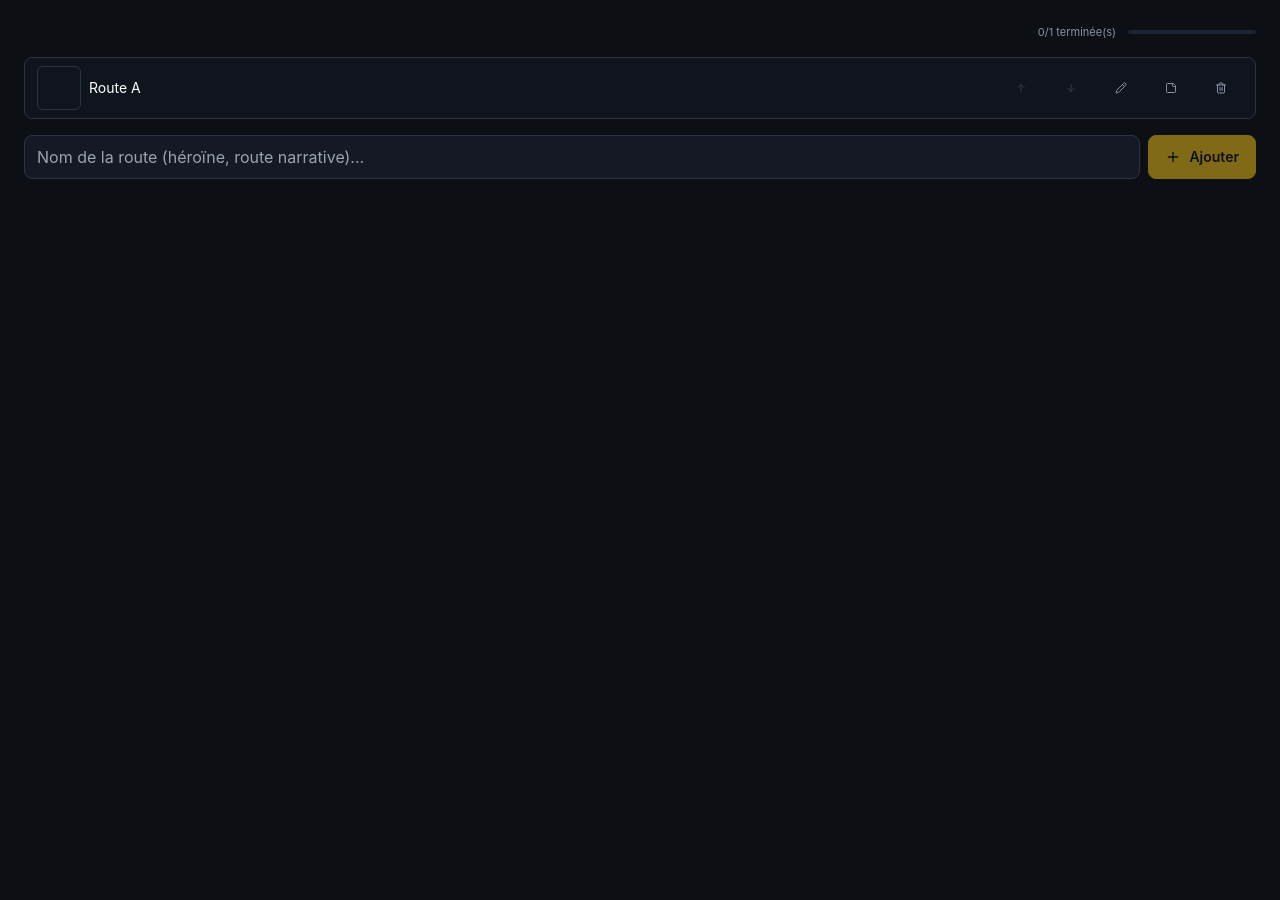
RoutesSection › ignores duplicate edit saves while the first patch is pending
Expected: the button "Route A" is shown, [89, 66, 991, 110]
Click the button named "Modifier": (1121, 88) [1099, 66, 1143, 110]
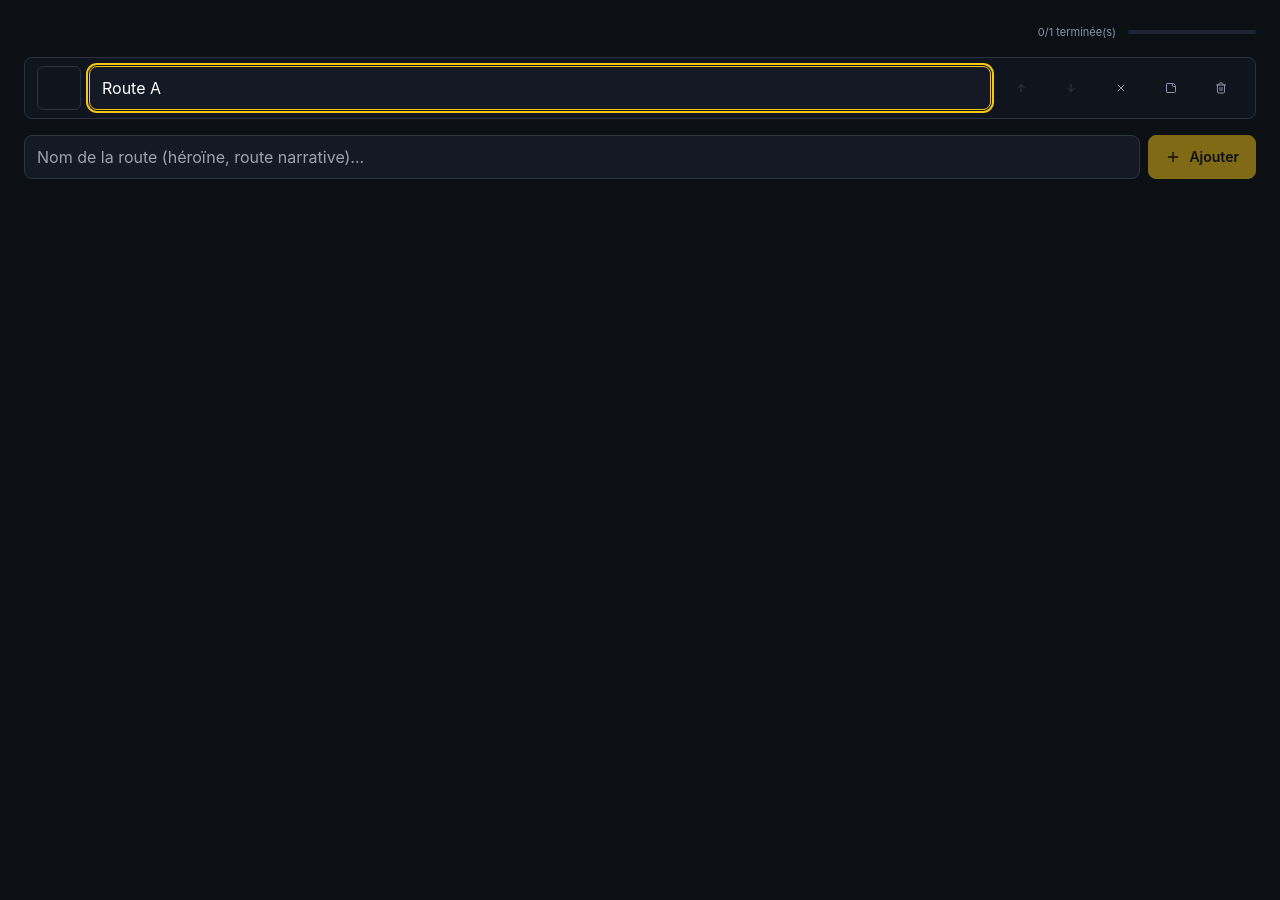
Replace the text in the field named "Nom de la route (héroïne, route narrative)..." with "Route A Edited": (540, 88) [89, 66, 991, 110]
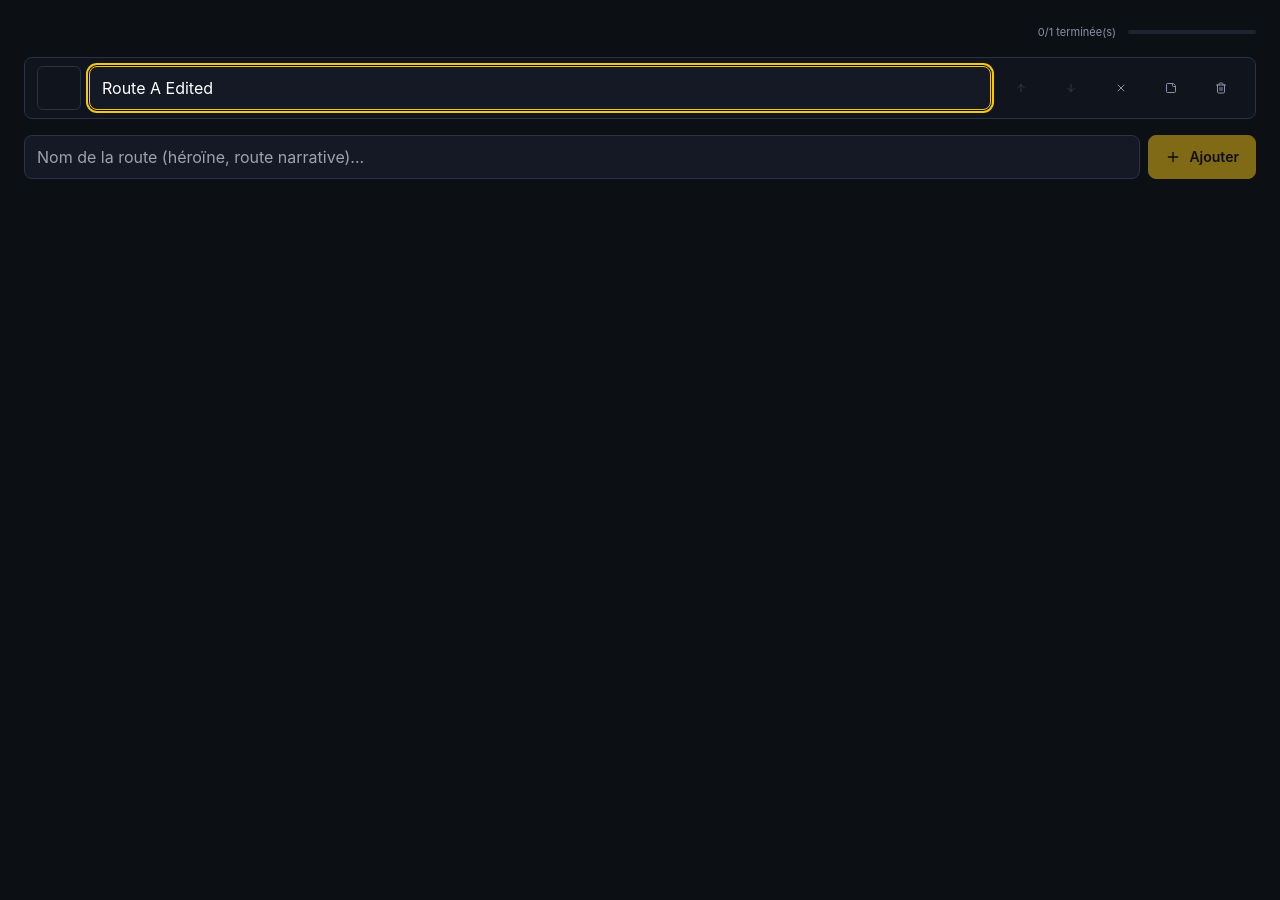
Press Enter in the field named "Nom de la route (héroïne, route narrative)...", box [89, 66, 991, 110]
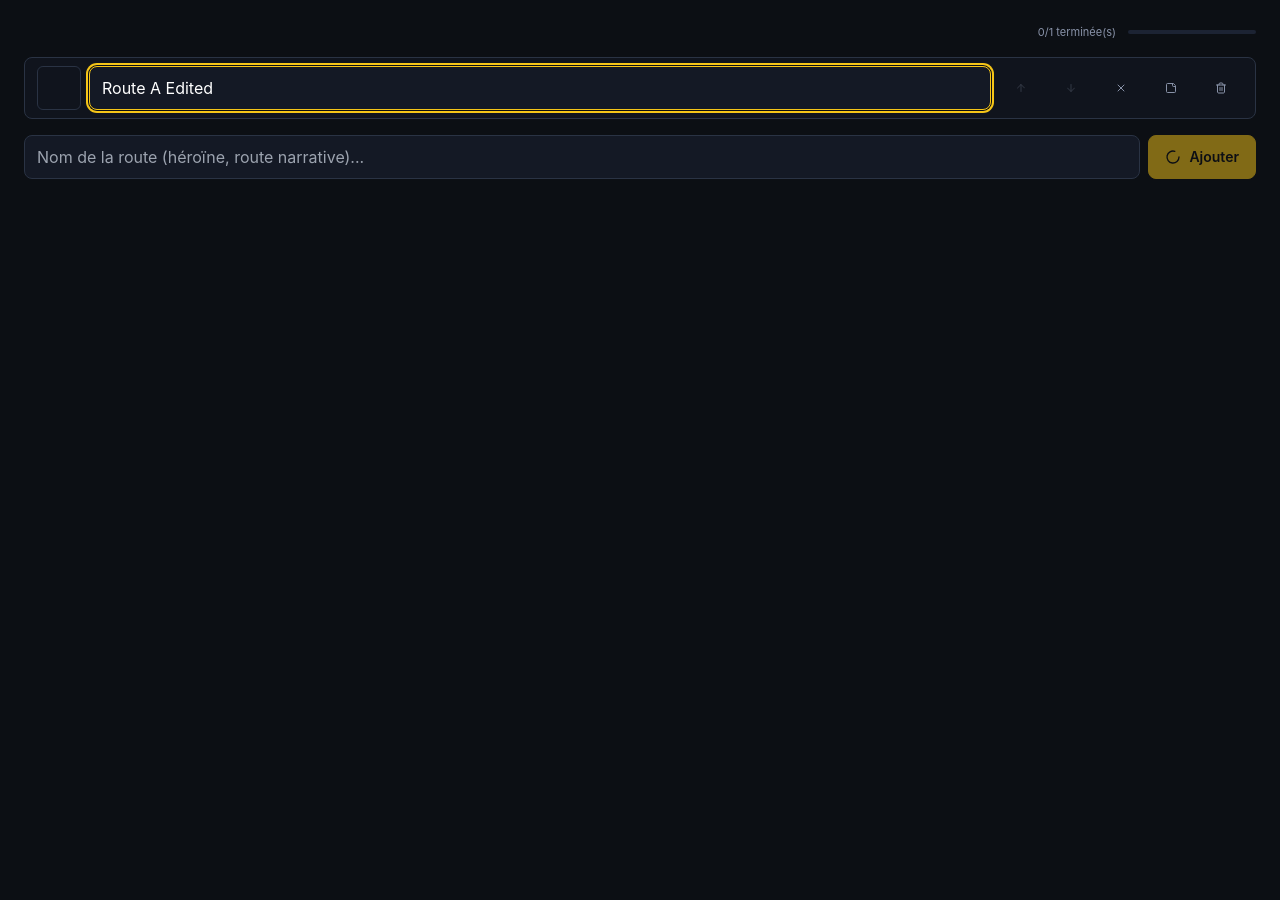
Leave the field named "Nom de la route (héroïne, route narrative)...", box [89, 66, 991, 110]
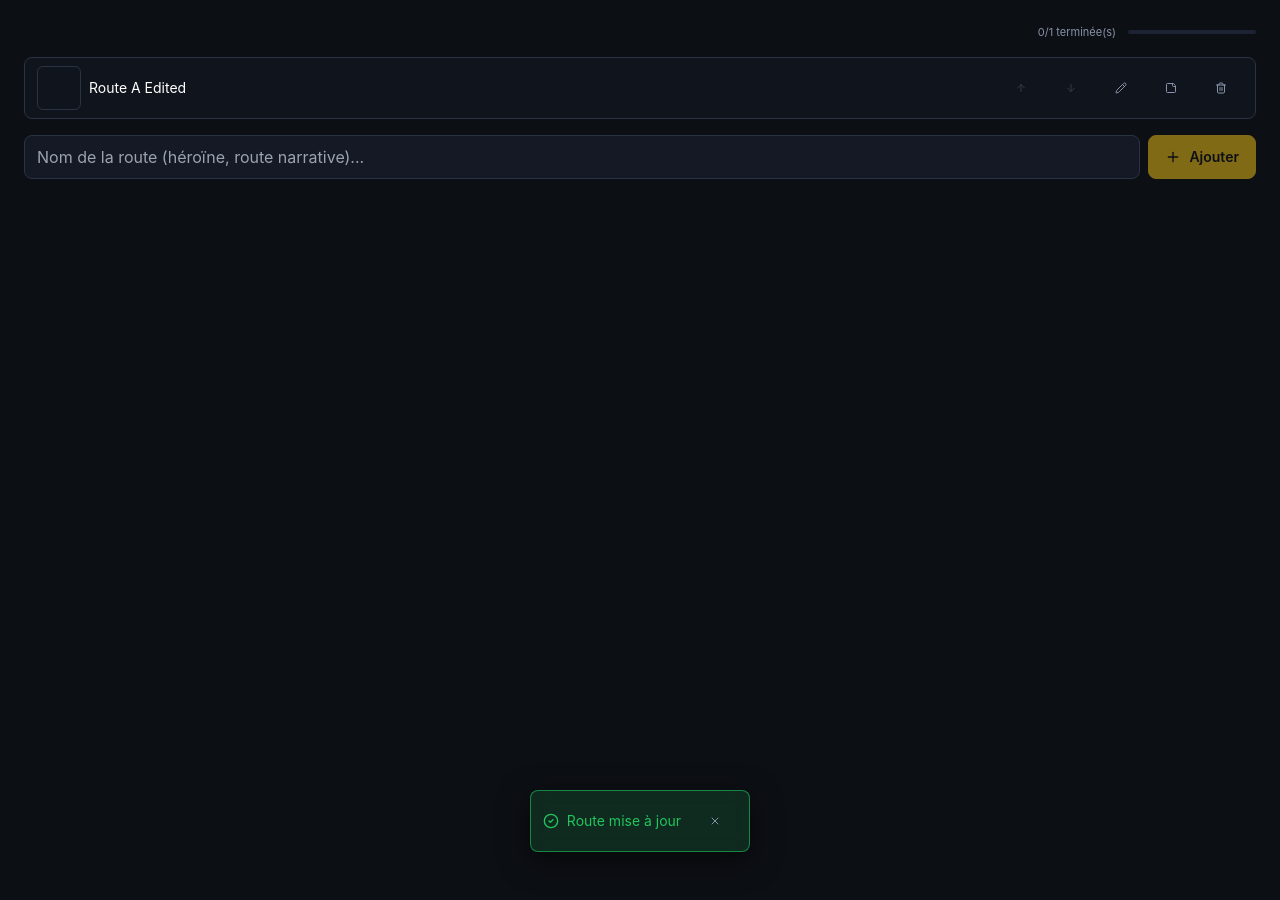
Expected: the button "Route A Edited" is shown, [89, 66, 991, 110]
